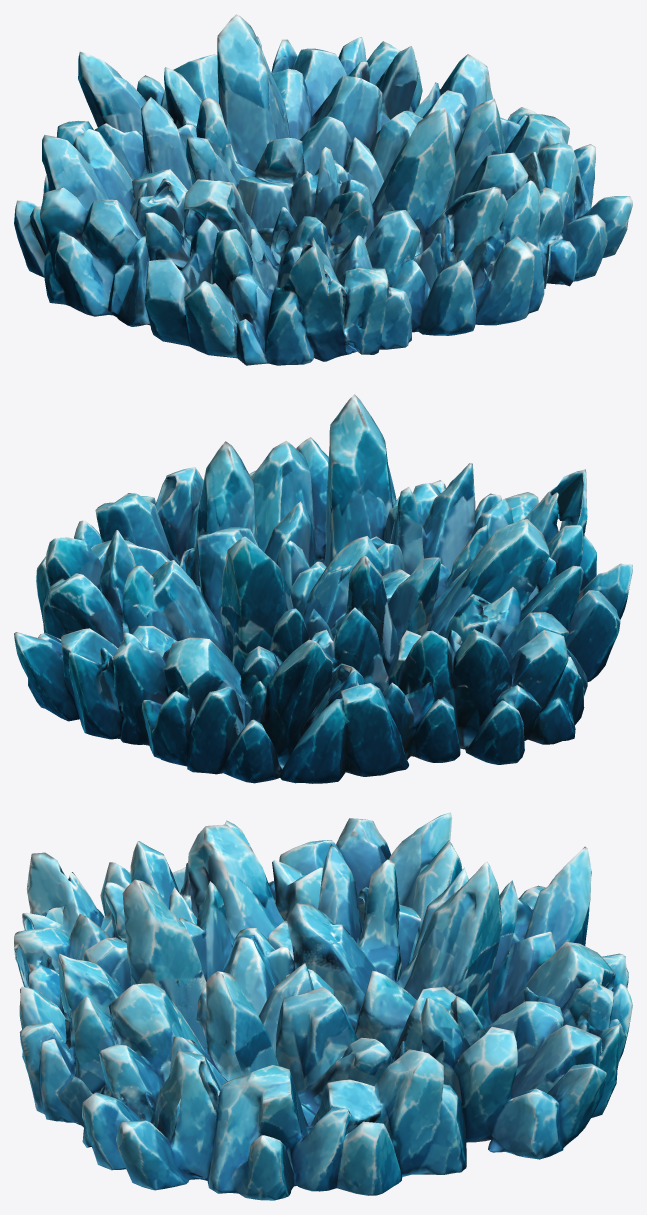
The model's file is IceWall_01.fbx.
The picture shows the model from 3 angles, top to bottom: view 1: azimuth 30°, elevation 25°; view 2: azimuth 150°, elevation 25°; view 3: azimuth 270°, elevation 25°; orthographic projection. The views are drawn at different scales.
Parts seen in each view (by area): view 1: texture_mapping; view 2: texture_mapping; view 3: texture_mapping.
Part boxes in pixels (left/top/right/bottom): texture_mapping: left=14, top=14, right=632, bottom=365; texture_mapping: left=14, top=394, right=632, bottom=783; texture_mapping: left=14, top=812, right=632, bottom=1200.
Bounding box in the file's own units: 0.9989 × 0.9308 × 0.3626.
Materials: 1 (1 with a texture image).
